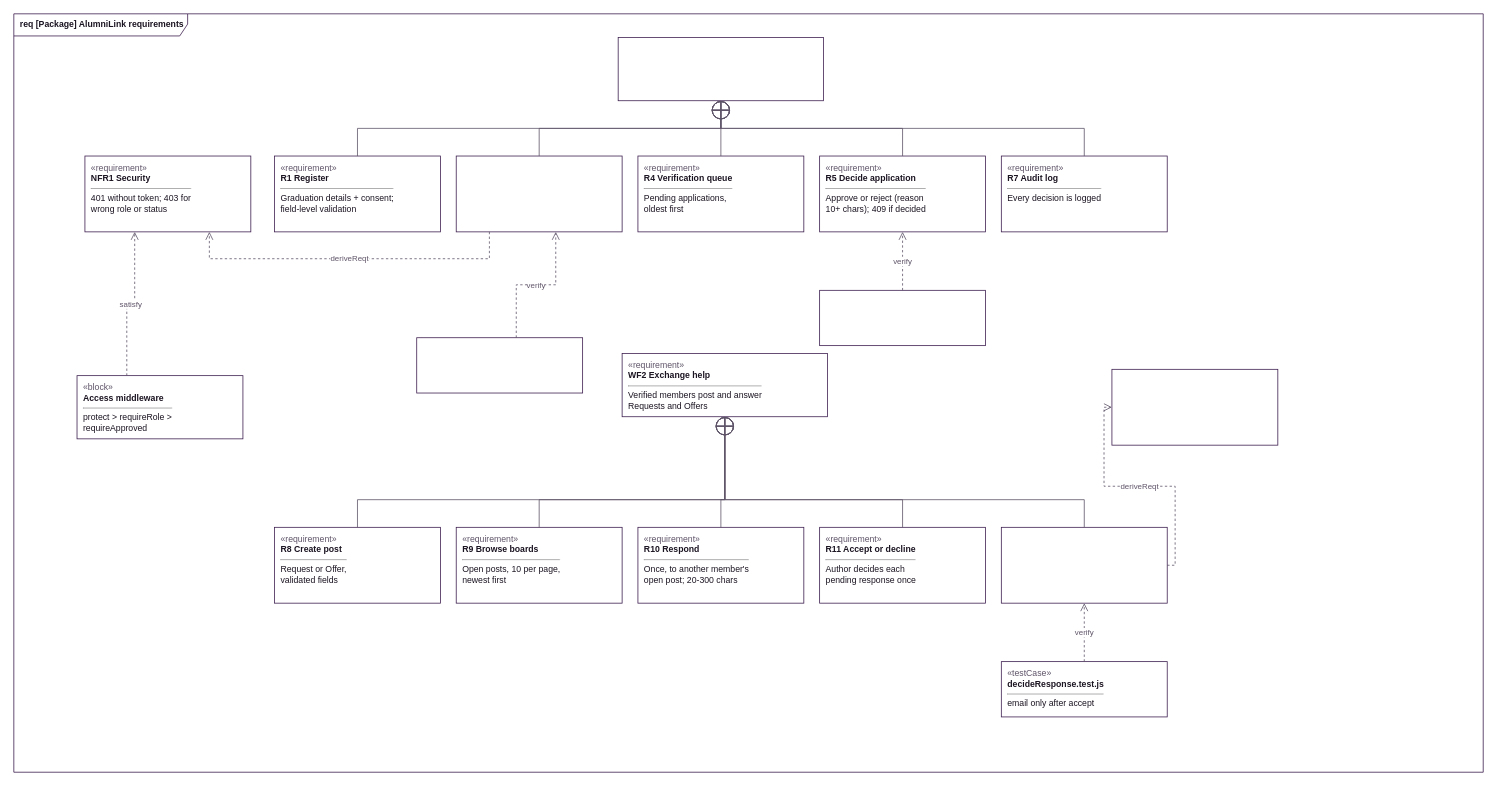
The diagram is 1497 pixels wide and 786 high, and some of its shapes have lost their labels. Here are the shapes that lost their labels. From the top down, the centre of each, then its label:
[720,69]: «requirement» WF1 Verify graduates Only verified graduates join the network
[538,193]: «requirement» R3 Pending access Pending: anonymised overview only; 403 on boards
[902,318]: «testCase» verificationDecision.test.js 400, 404, 409 paths
[499,365]: «testCase» overview.test.js pending 200 / boards 403
[1194,407]: «requirement» NFR2 Privacy No email before acceptance; consent timestamp stored
[1084,565]: «requirement» R12 Reveal contact Emails shared only after acceptance
